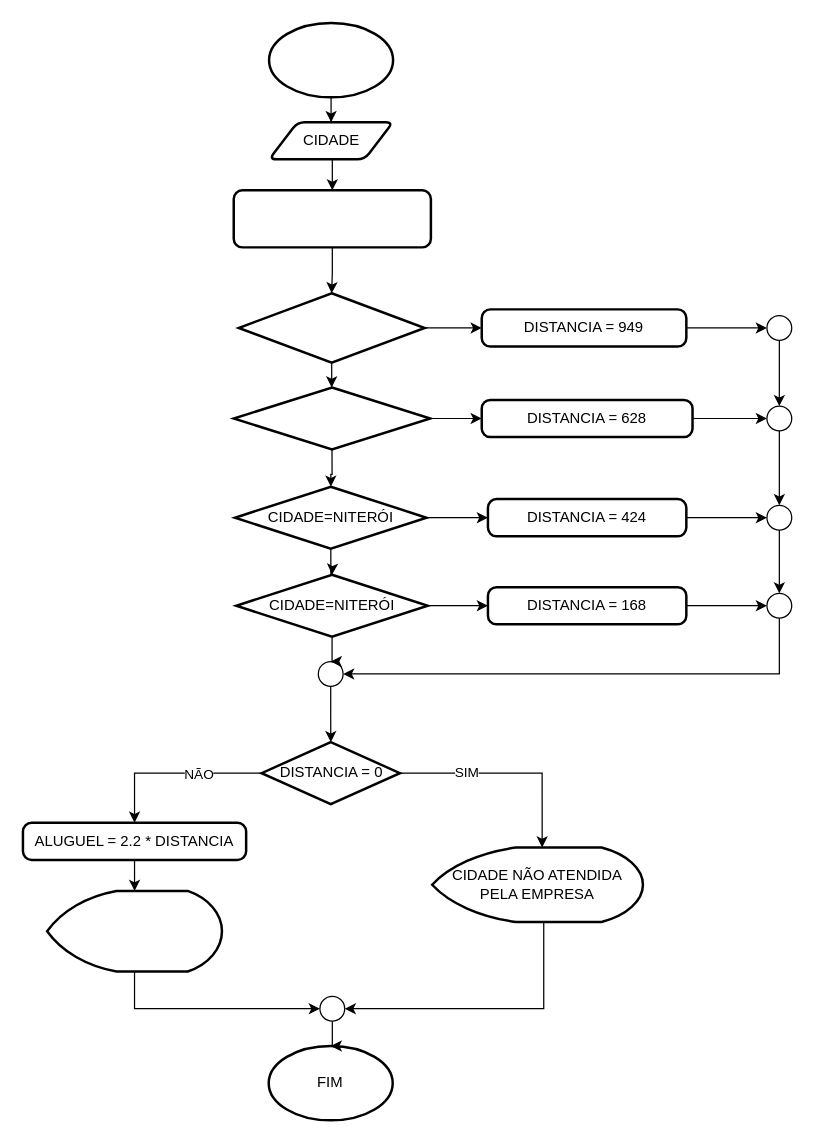
The diagram is 813 pixels wide and 1142 high, and some of its shapes have lost their labels. The box of each missing label's shape, as (x1, y1, x2, y2) in pixels:
CIDADE DISTANCIA ALGUEL: (45, 889, 223, 972)
CIDADE=MURIAÉ: (232, 386, 431, 450)
CIDADE=VITÓRIA: (237, 291, 425, 363)
INICIO: (267, 21, 394, 98)
MOVE 0 DISTANCIA: (232, 188, 432, 248)
